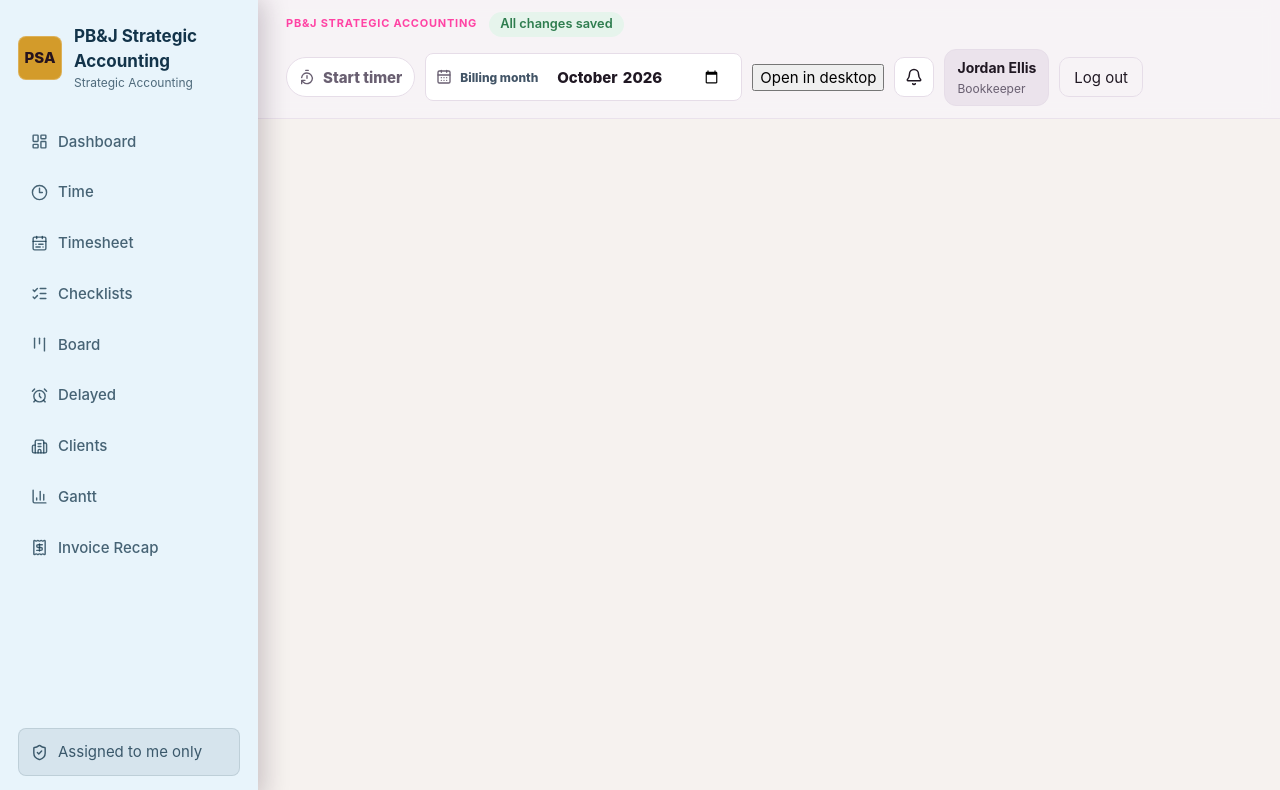
Test: as a team member › is offered both choices and Cancel on a recurring checklist
This screenshot has width=1280, height=790.
expect the navigation bar is shown: met, box x1=31 y1=132 x2=158 y2=557
Click the link "Checklists" at [82, 293], box x1=31 y1=284 x2=133 y2=303
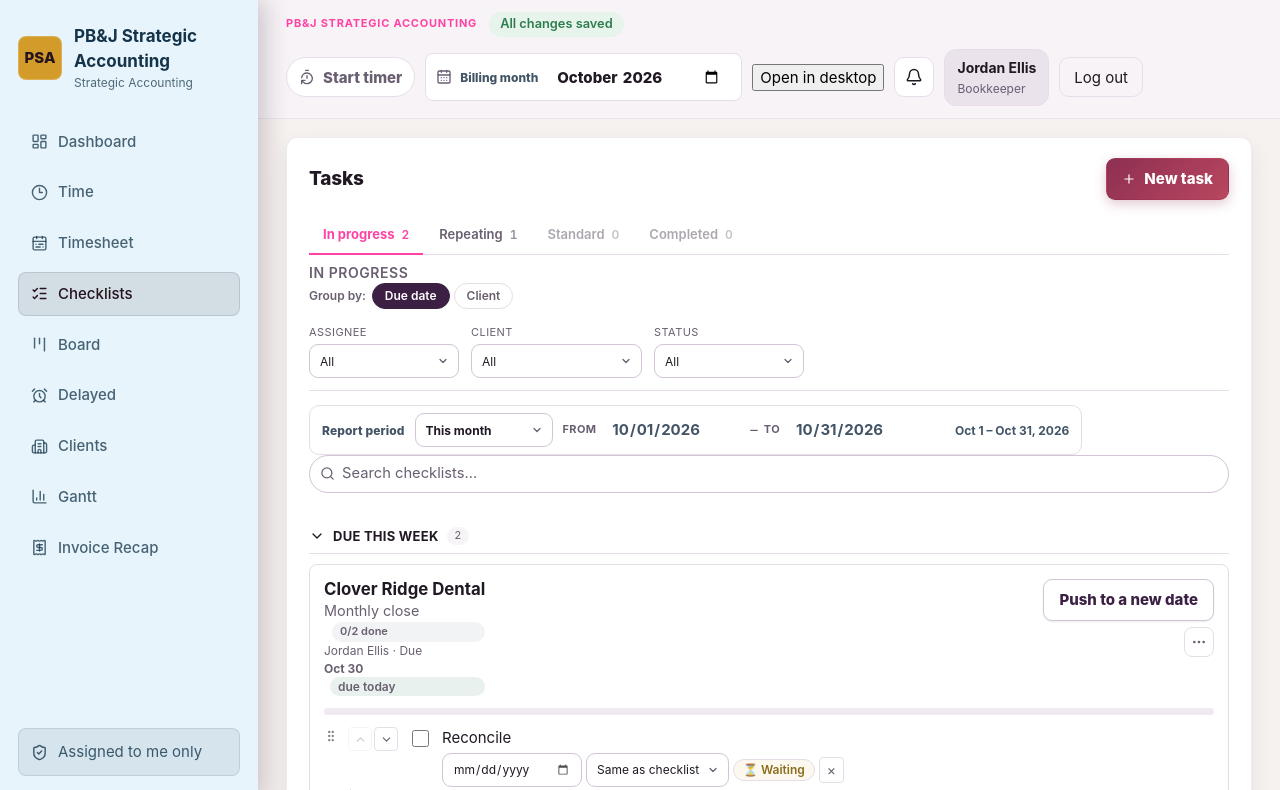
expect the link "Checklists" is marked as current: met, box x1=18 y1=272 x2=240 y2=316
Click the button named "Delete item" at [831, 770], box x1=819 y1=757 x2=844 y2=783
(page scrolled)
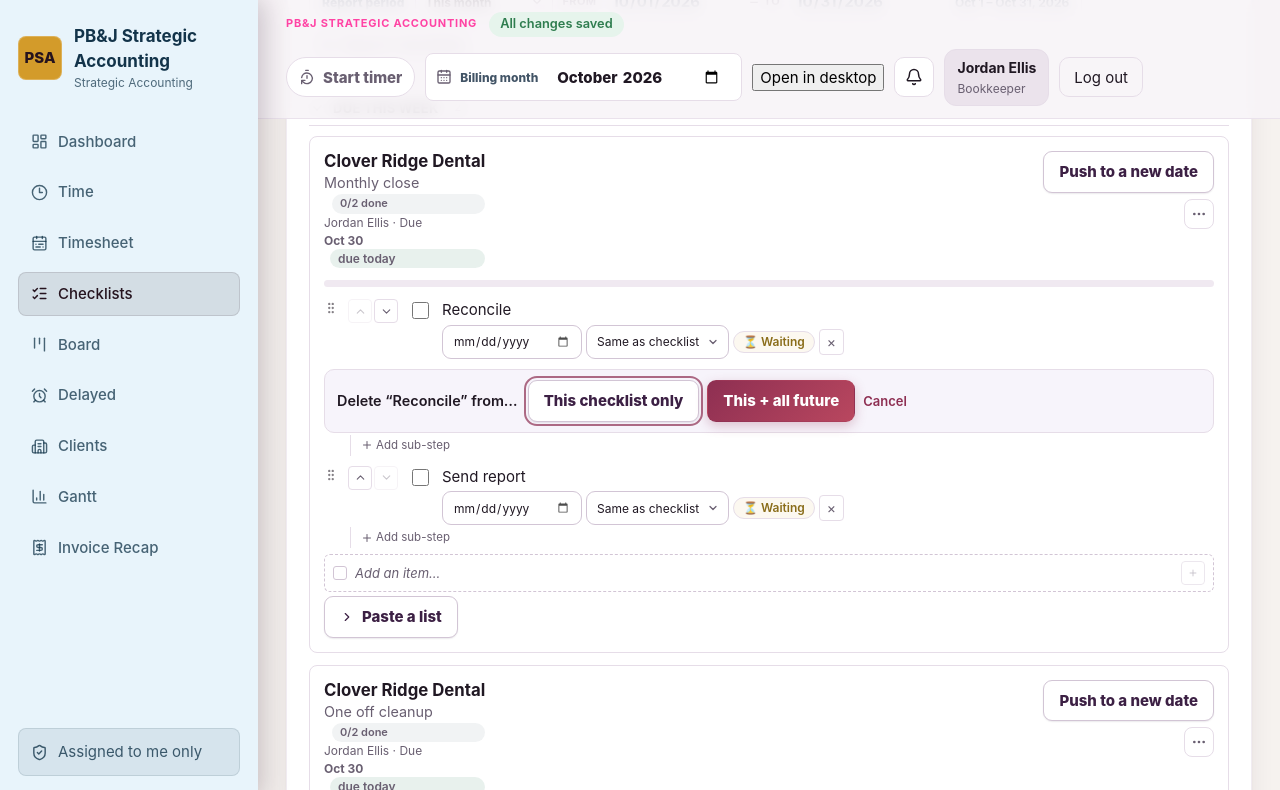
expect the button "This checklist only" is shown: met, box x1=528 y1=380 x2=699 y2=422
expect the button "This + all future" is shown: met, box x1=707 y1=380 x2=855 y2=422
expect the button "Cancel" is shown: met, box x1=863 y1=388 x2=907 y2=414
